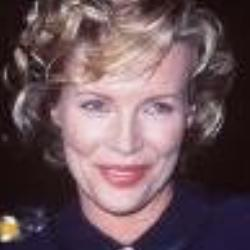face: (7, 4, 229, 224)
